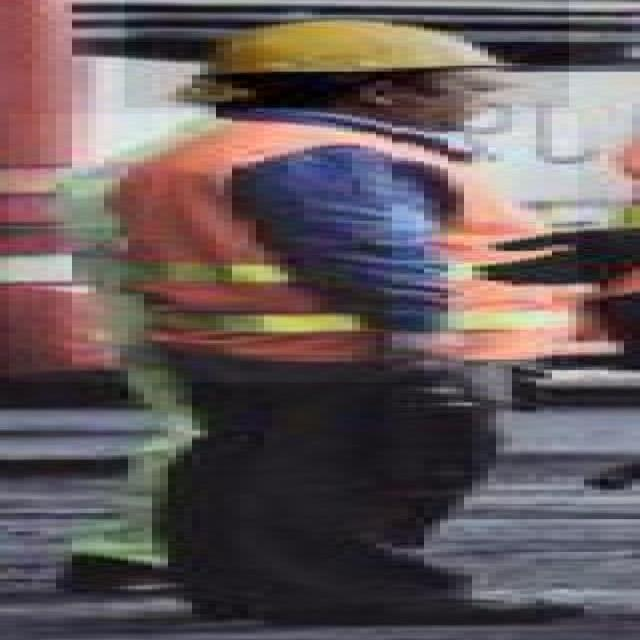Helmet: (125, 0, 569, 108)
Safety Vest: (9, 115, 578, 383)
